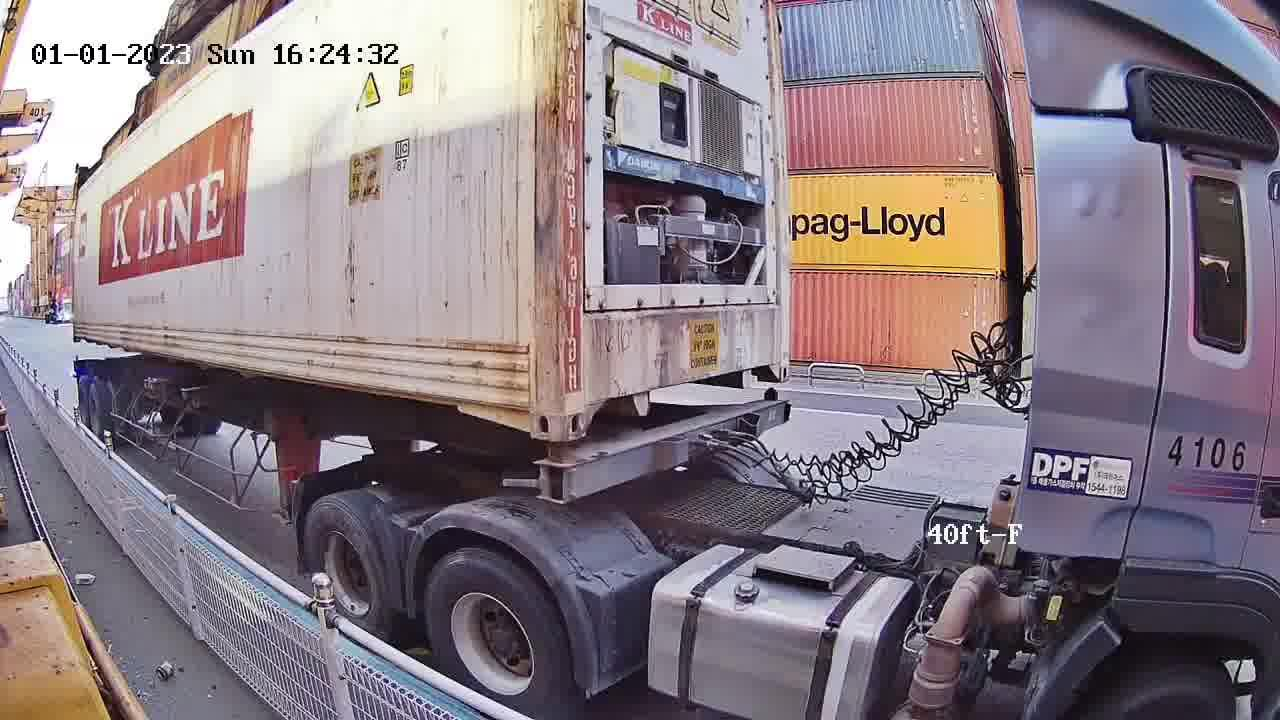Chassis: (538, 399, 787, 500)
Cone: (537, 441, 578, 499), (758, 387, 783, 424)
Hole_L: (565, 383, 613, 442)
Hole_R: (505, 382, 565, 442), (762, 348, 790, 383)
Tire: (427, 550, 564, 714), (302, 501, 388, 631)
